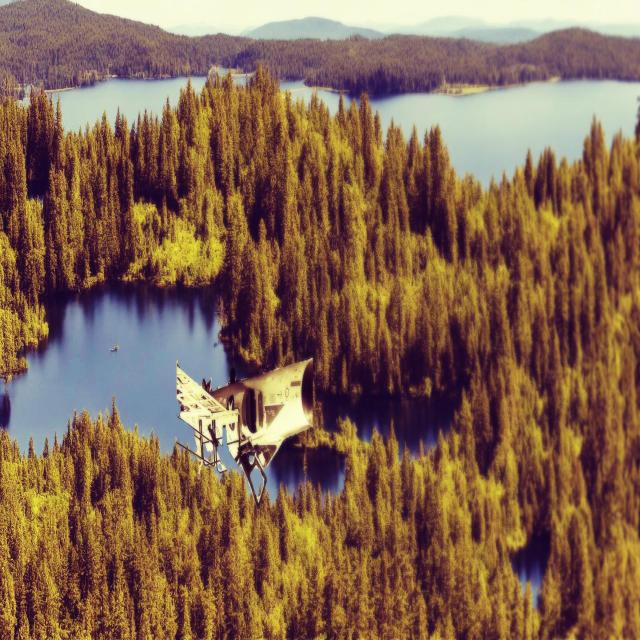airplane: (175, 356, 315, 506)
